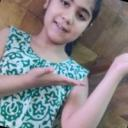hand: (26, 68, 85, 90), (111, 52, 128, 76)
